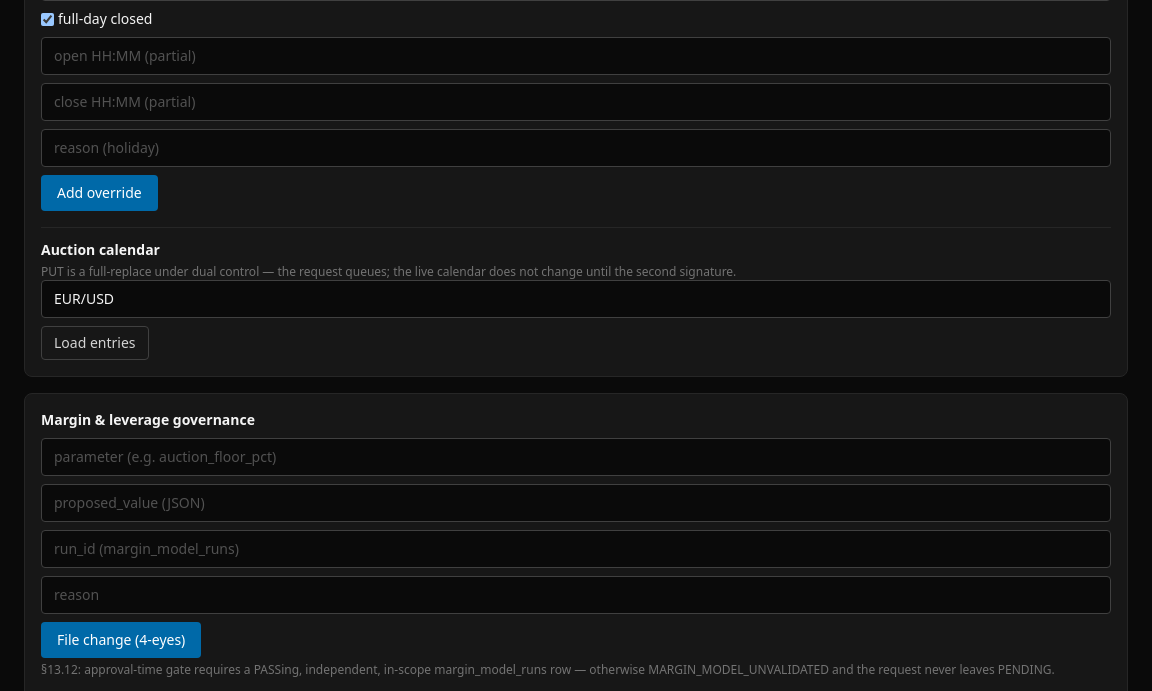
Test case: InstrumentGovernancePage › replaces the auction calendar under dual control (full-replace PUT)
(page scrolled)
Click the button "Load entries" at x=95, y=343, box [41,326,148,360]
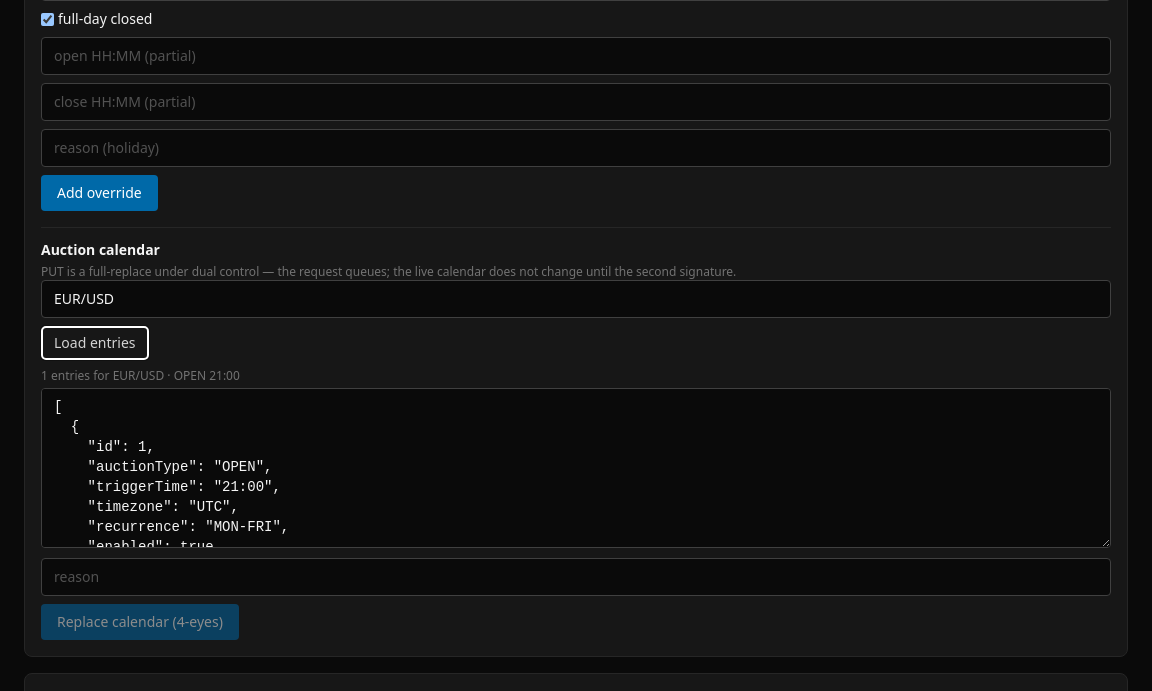
Now the text box named "Calendar entries JSON" is shown, box [41,388,1111,548]
Type "add fixing call" into the field named "Calendar replace reason" at x=576, y=577, box [41,558,1111,596]
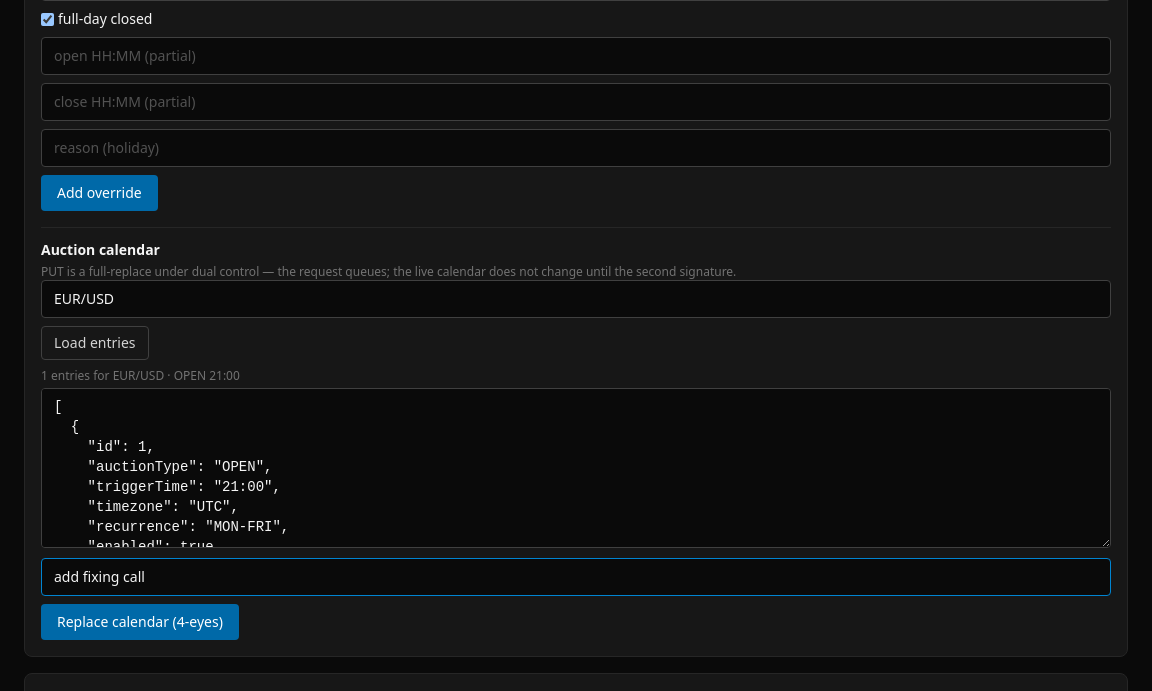
Click the button "Replace calendar (4-eyes)" at x=140, y=622, box [41,604,239,640]
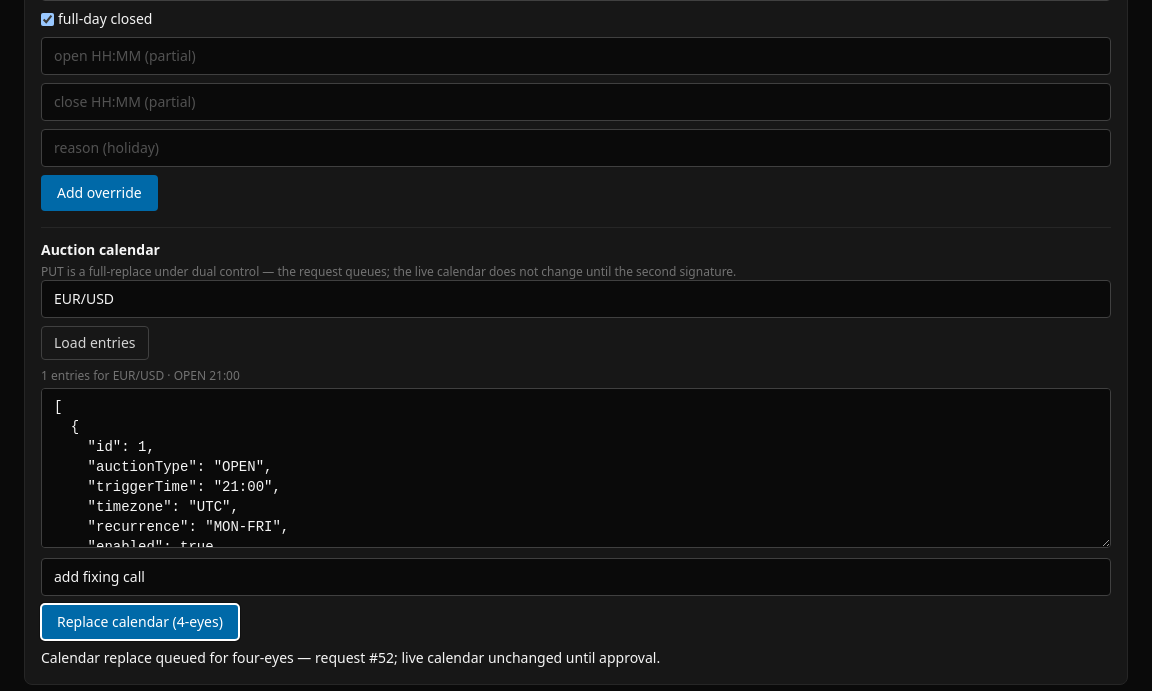
Now the text "request #52" is shown, box [41,648,660,667]
